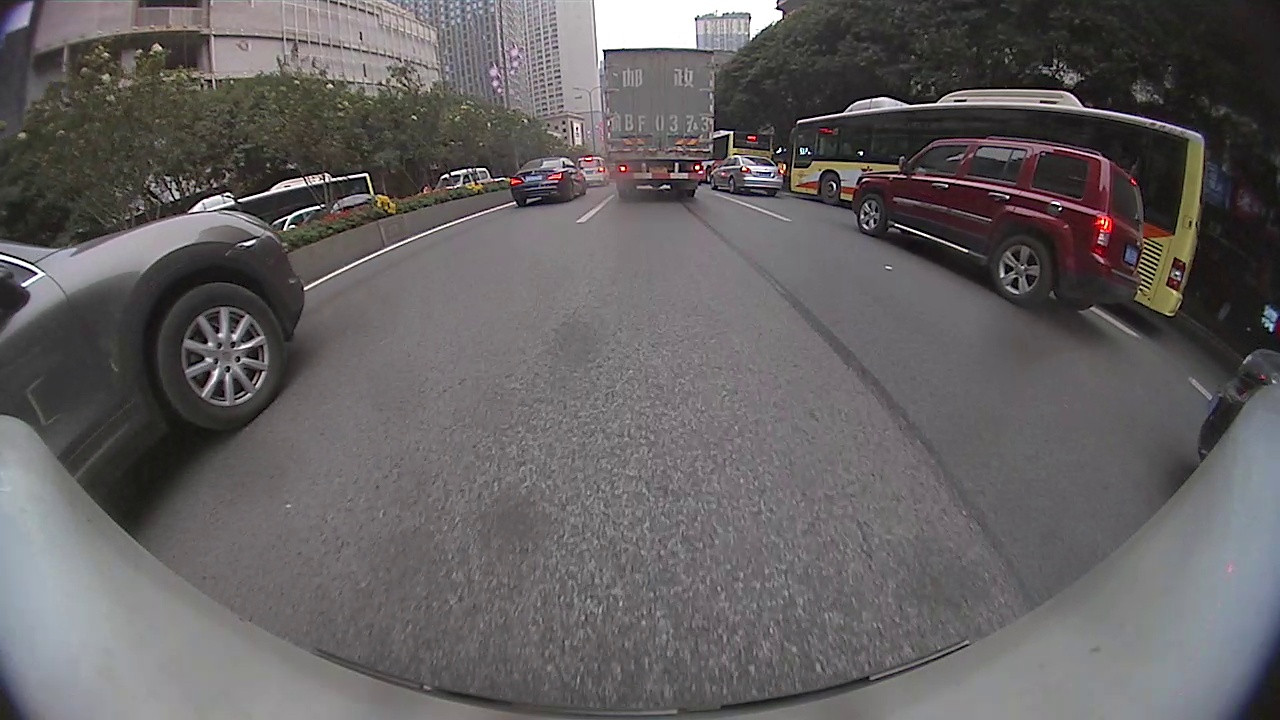bus: (792, 87, 1205, 317)
car: (0, 213, 303, 507), (855, 134, 1147, 312), (1197, 345, 1279, 459), (512, 158, 590, 206), (715, 158, 781, 198)
front: (148, 280, 289, 434), (856, 191, 887, 241), (819, 171, 843, 206)
rear: (988, 234, 1055, 306), (728, 177, 736, 195)
truck: (602, 50, 714, 200)
